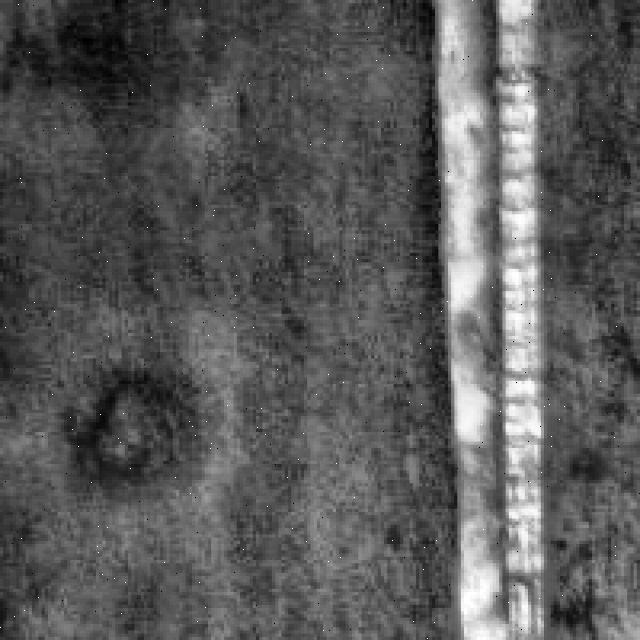Inclusion: (426, 0, 564, 630)
